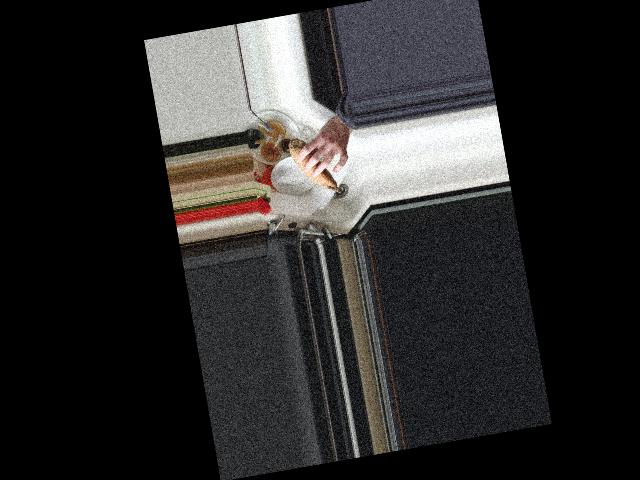sweet_potato: (287, 132, 341, 201)
